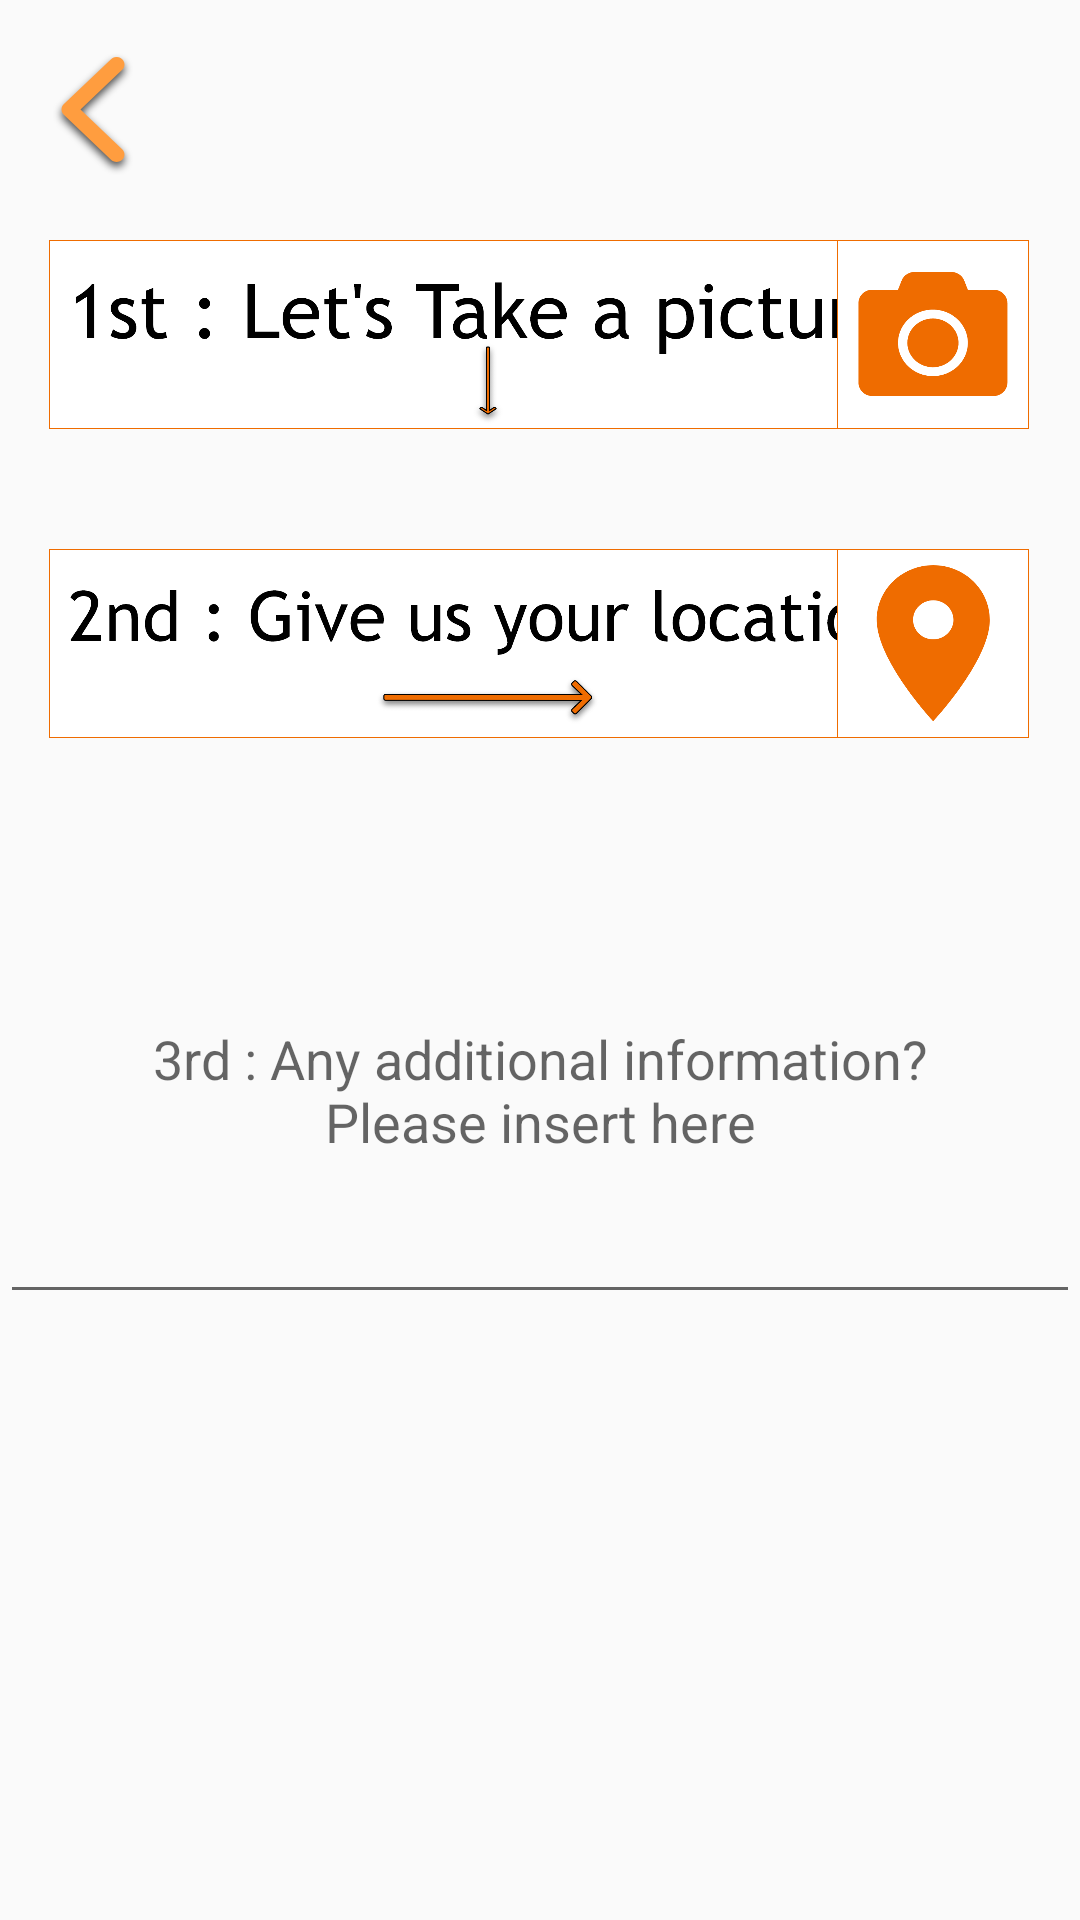

Screen size 1080 × 1920. Icon name, then its center in pixels as point (x, y):
back: point (93, 113)
camera: point (933, 334)
